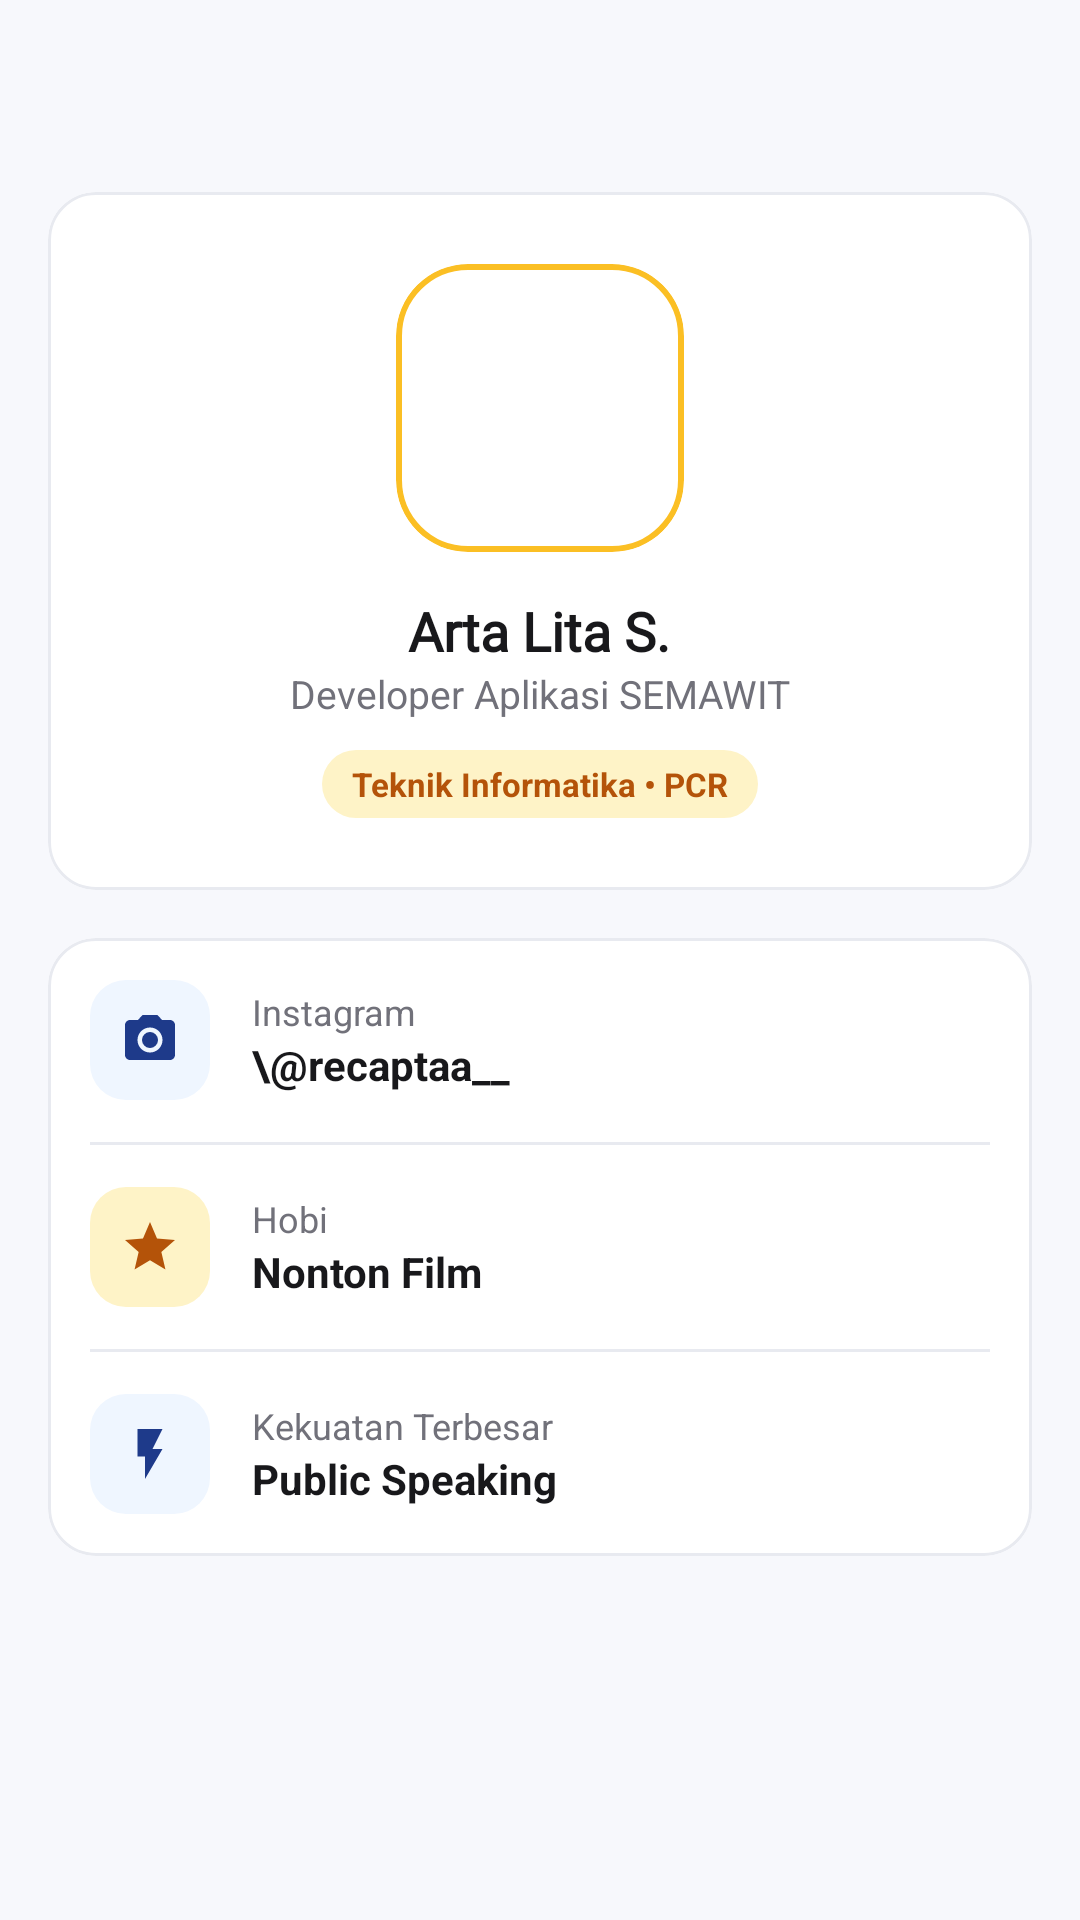

Named icons in this screenshot (1080w x 1920h) and their bounding boxes, (x1, y1, x2, y2):
bolt: (137, 1429, 163, 1479)
camera: (125, 1015, 175, 1060)
star: (90, 1187, 210, 1307)
